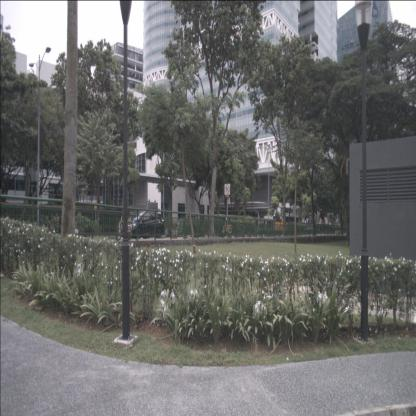vehicle-bicycle: (115, 208, 133, 242), (222, 217, 234, 238)
vehicle-bus-rigid: (274, 214, 300, 235)
vehicle-car: (122, 211, 165, 239)
